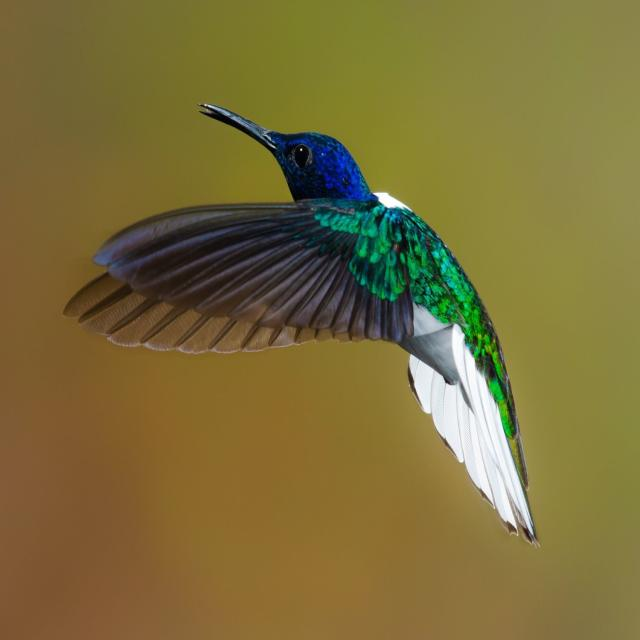Humming Bird: (74, 88, 548, 545)
